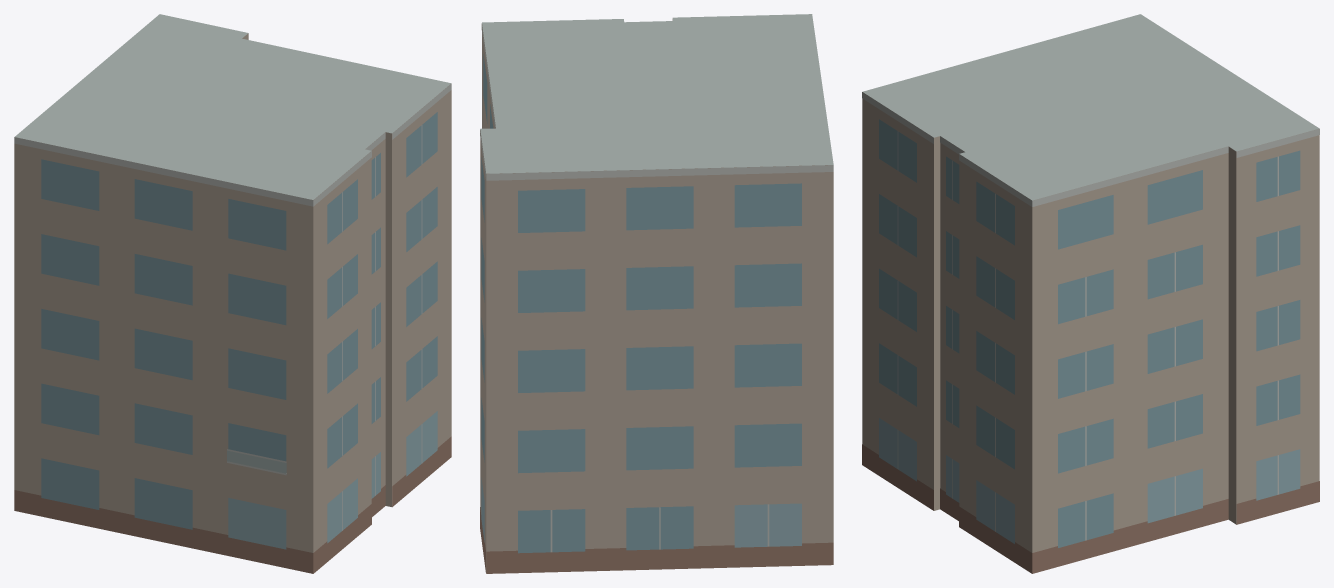
The model's file is survey-upis-32887537.glb.
3 views of the same model, side by side, from view 1: azimuth 30°, elevation 25°; view 2: azimuth 150°, elevation 25°; view 3: azimuth 270°, elevation 25° (orthographic). The views are drawn at different scales.
Parts seen in each view (by area): view 1: survey-upis-32887537.tmp; view 2: survey-upis-32887537.tmp; view 3: survey-upis-32887537.tmp.
Boxes of the visible parts, x1,y1,x2,y2 form: survey-upis-32887537.tmp: (14, 14, 451, 573); survey-upis-32887537.tmp: (480, 14, 833, 573); survey-upis-32887537.tmp: (862, 14, 1319, 573).
Size of the model in its own units: 14.91 by 13.9 by 15.45.
